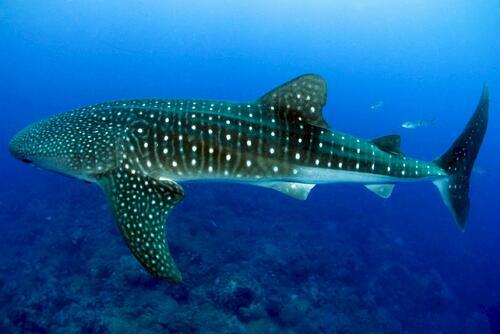shark: (9, 73, 490, 282)
